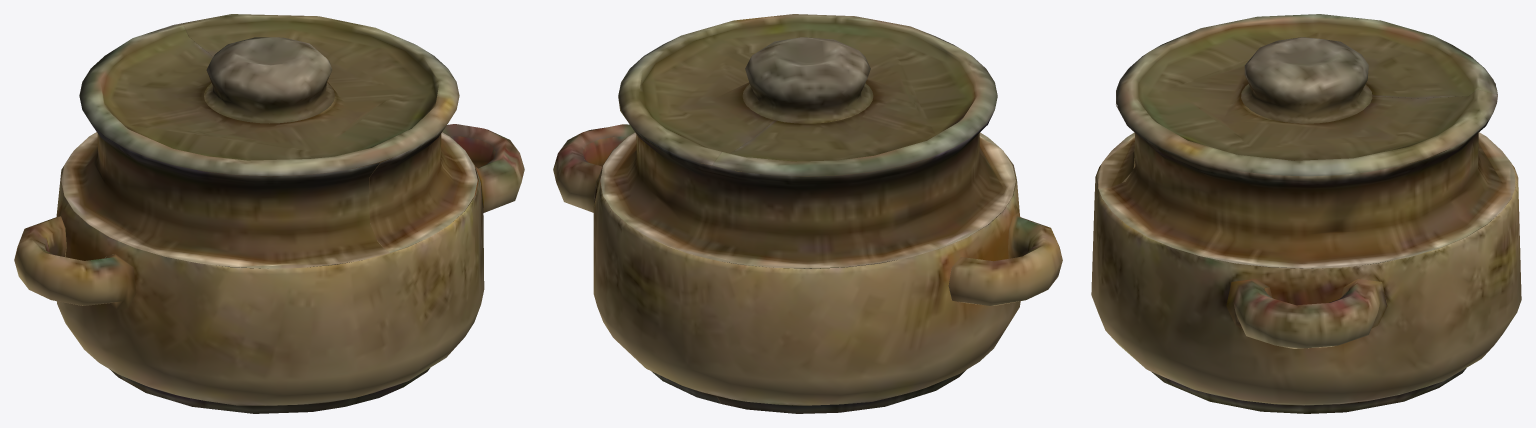
The model's file is ph_ceramic_pot.glb.
3 views of the same model, side by side, from view 1: azimuth 30°, elevation 25°; view 2: azimuth 150°, elevation 25°; view 3: azimuth 270°, elevation 25° (orthographic).
Parts seen in each view (by area): view 1: ceramic_pot; view 2: ceramic_pot; view 3: ceramic_pot.
Boxes of the visible parts, x1,y1,x2,y2 form: ceramic_pot: (14, 14, 524, 413); ceramic_pot: (553, 14, 1062, 413); ceramic_pot: (1091, 14, 1521, 413).
Bounding box in the file's own units: 0.6563 × 0.3717 × 0.5012.
1 material, 1 textured.
